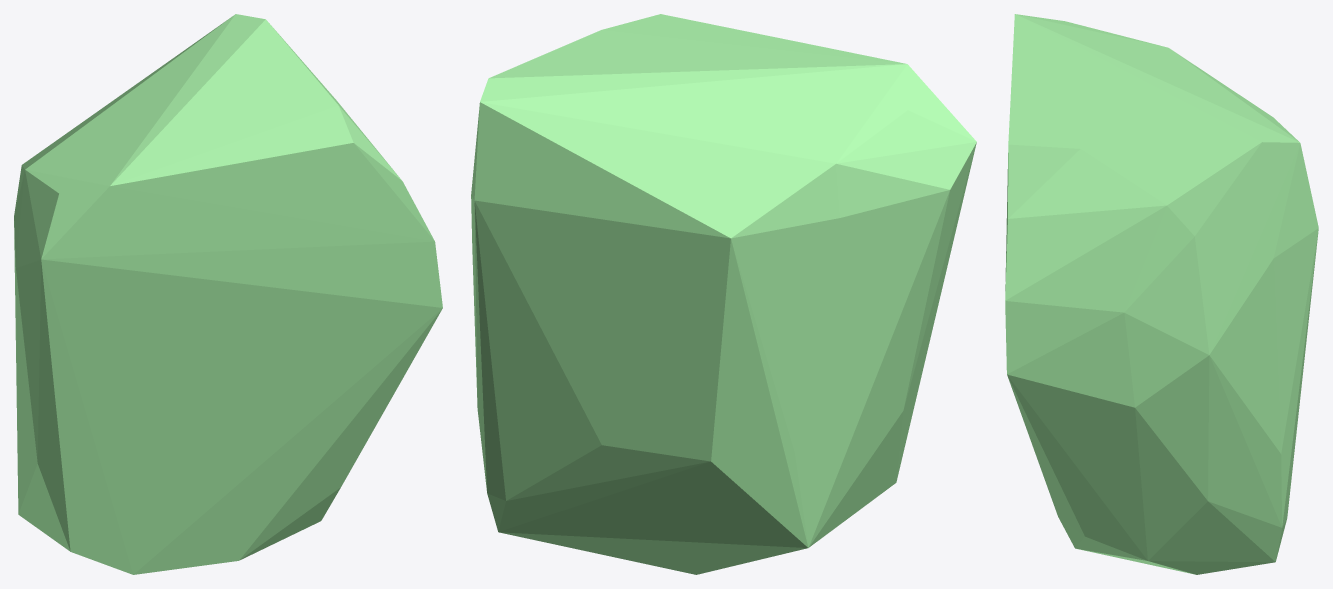
Rendered from linkhou_LR4_R560_link2_respondable_coll_6.dae.
The picture shows the model from 3 angles, left to right: view 1: azimuth 30°, elevation 25°; view 2: azimuth 150°, elevation 25°; view 3: azimuth 270°, elevation 25°; orthographic projection. The views are drawn at different scales.
Visible parts, largest first — view 1: Node_00000209DB3AC770; view 2: Node_00000209DB3AC770; view 3: Node_00000209DB3AC770.
Part boxes in pixels (left/top/right/bottom): Node_00000209DB3AC770: left=14, top=14, right=442, bottom=574; Node_00000209DB3AC770: left=471, top=14, right=976, bottom=574; Node_00000209DB3AC770: left=1005, top=14, right=1318, bottom=574.
Size of the model in its own units: 0.168 by 0.1854 by 0.1148.
